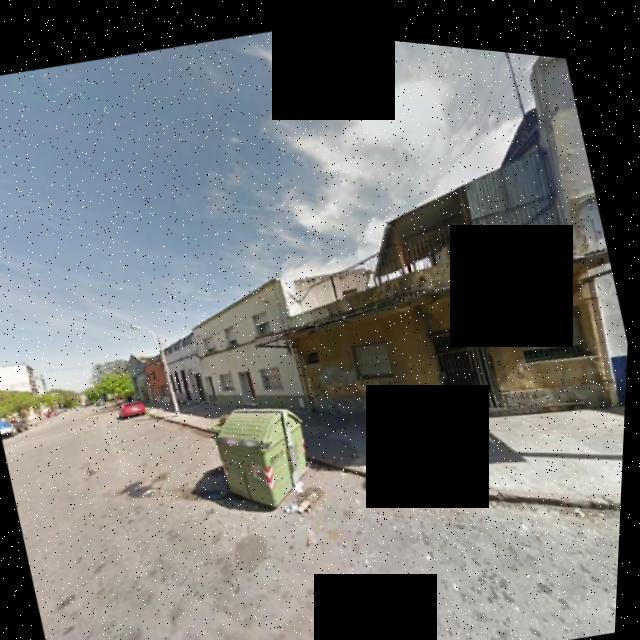bin: (193, 369, 347, 531)
